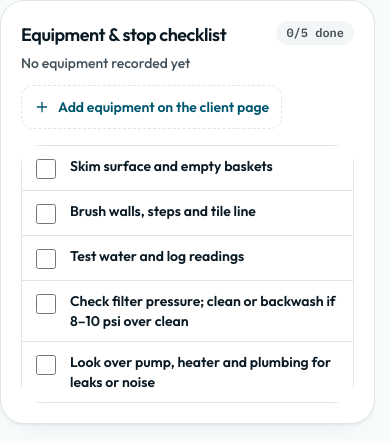
EquipmentStrip › tracks completed tasks with 44px targets and a live counter
Click the checkbox labelled "Skim surface and empty baskets". click: (46, 169)
box: [36,159,56,179]
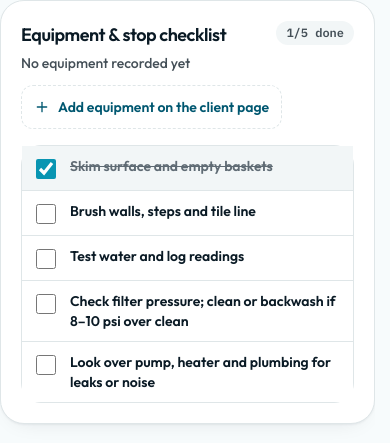
Expected: the checkbox labelled "Skim surface and empty baskets" is checked, [36,159,56,179]
